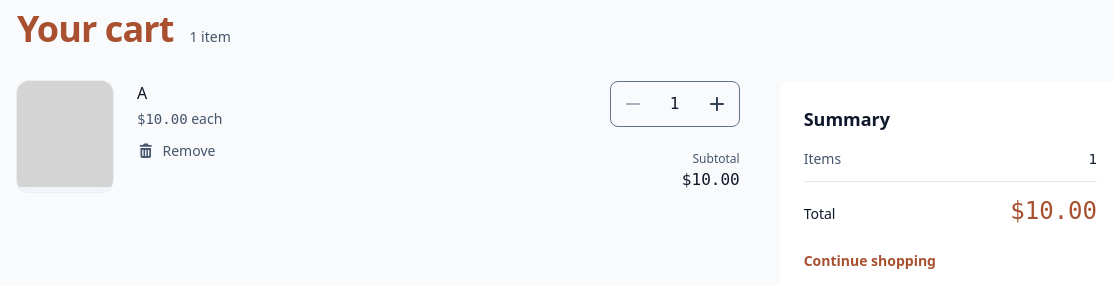
Test: Cart page › increasing an item's quantity updates the order total
The image size is (1114, 286).
expect the element with test id "cart-total-price" reads "$10.00": met, box x1=1010 y1=197 x2=1097 y2=225
Click the button named "increase quantity" at (717, 104), box x1=695 y1=82 x2=739 y2=126
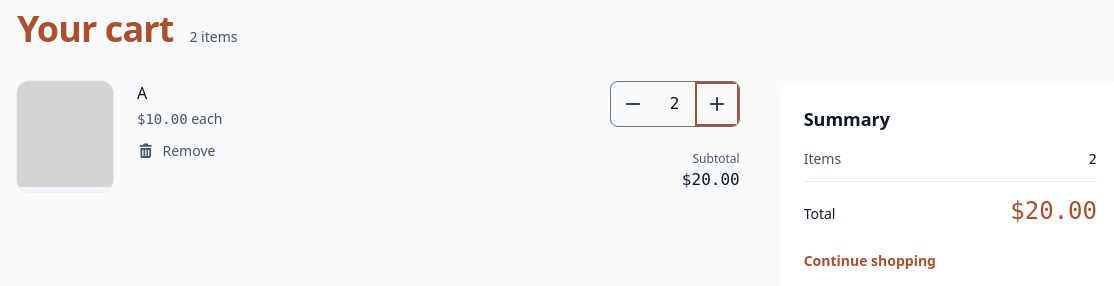
expect the element with test id "cart-total-price" reads "$20.00": met, box x1=1010 y1=197 x2=1097 y2=225
